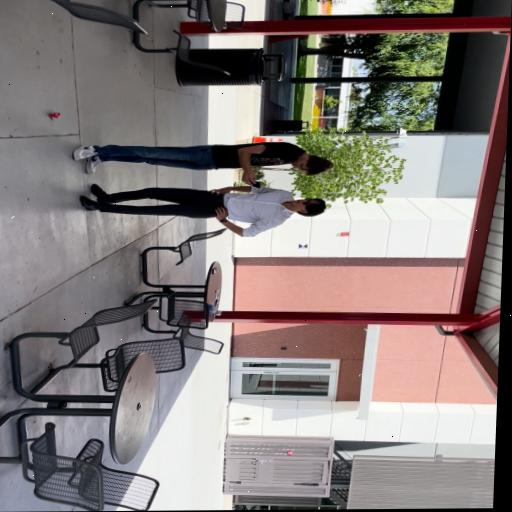target6: (298, 244, 308, 249)
